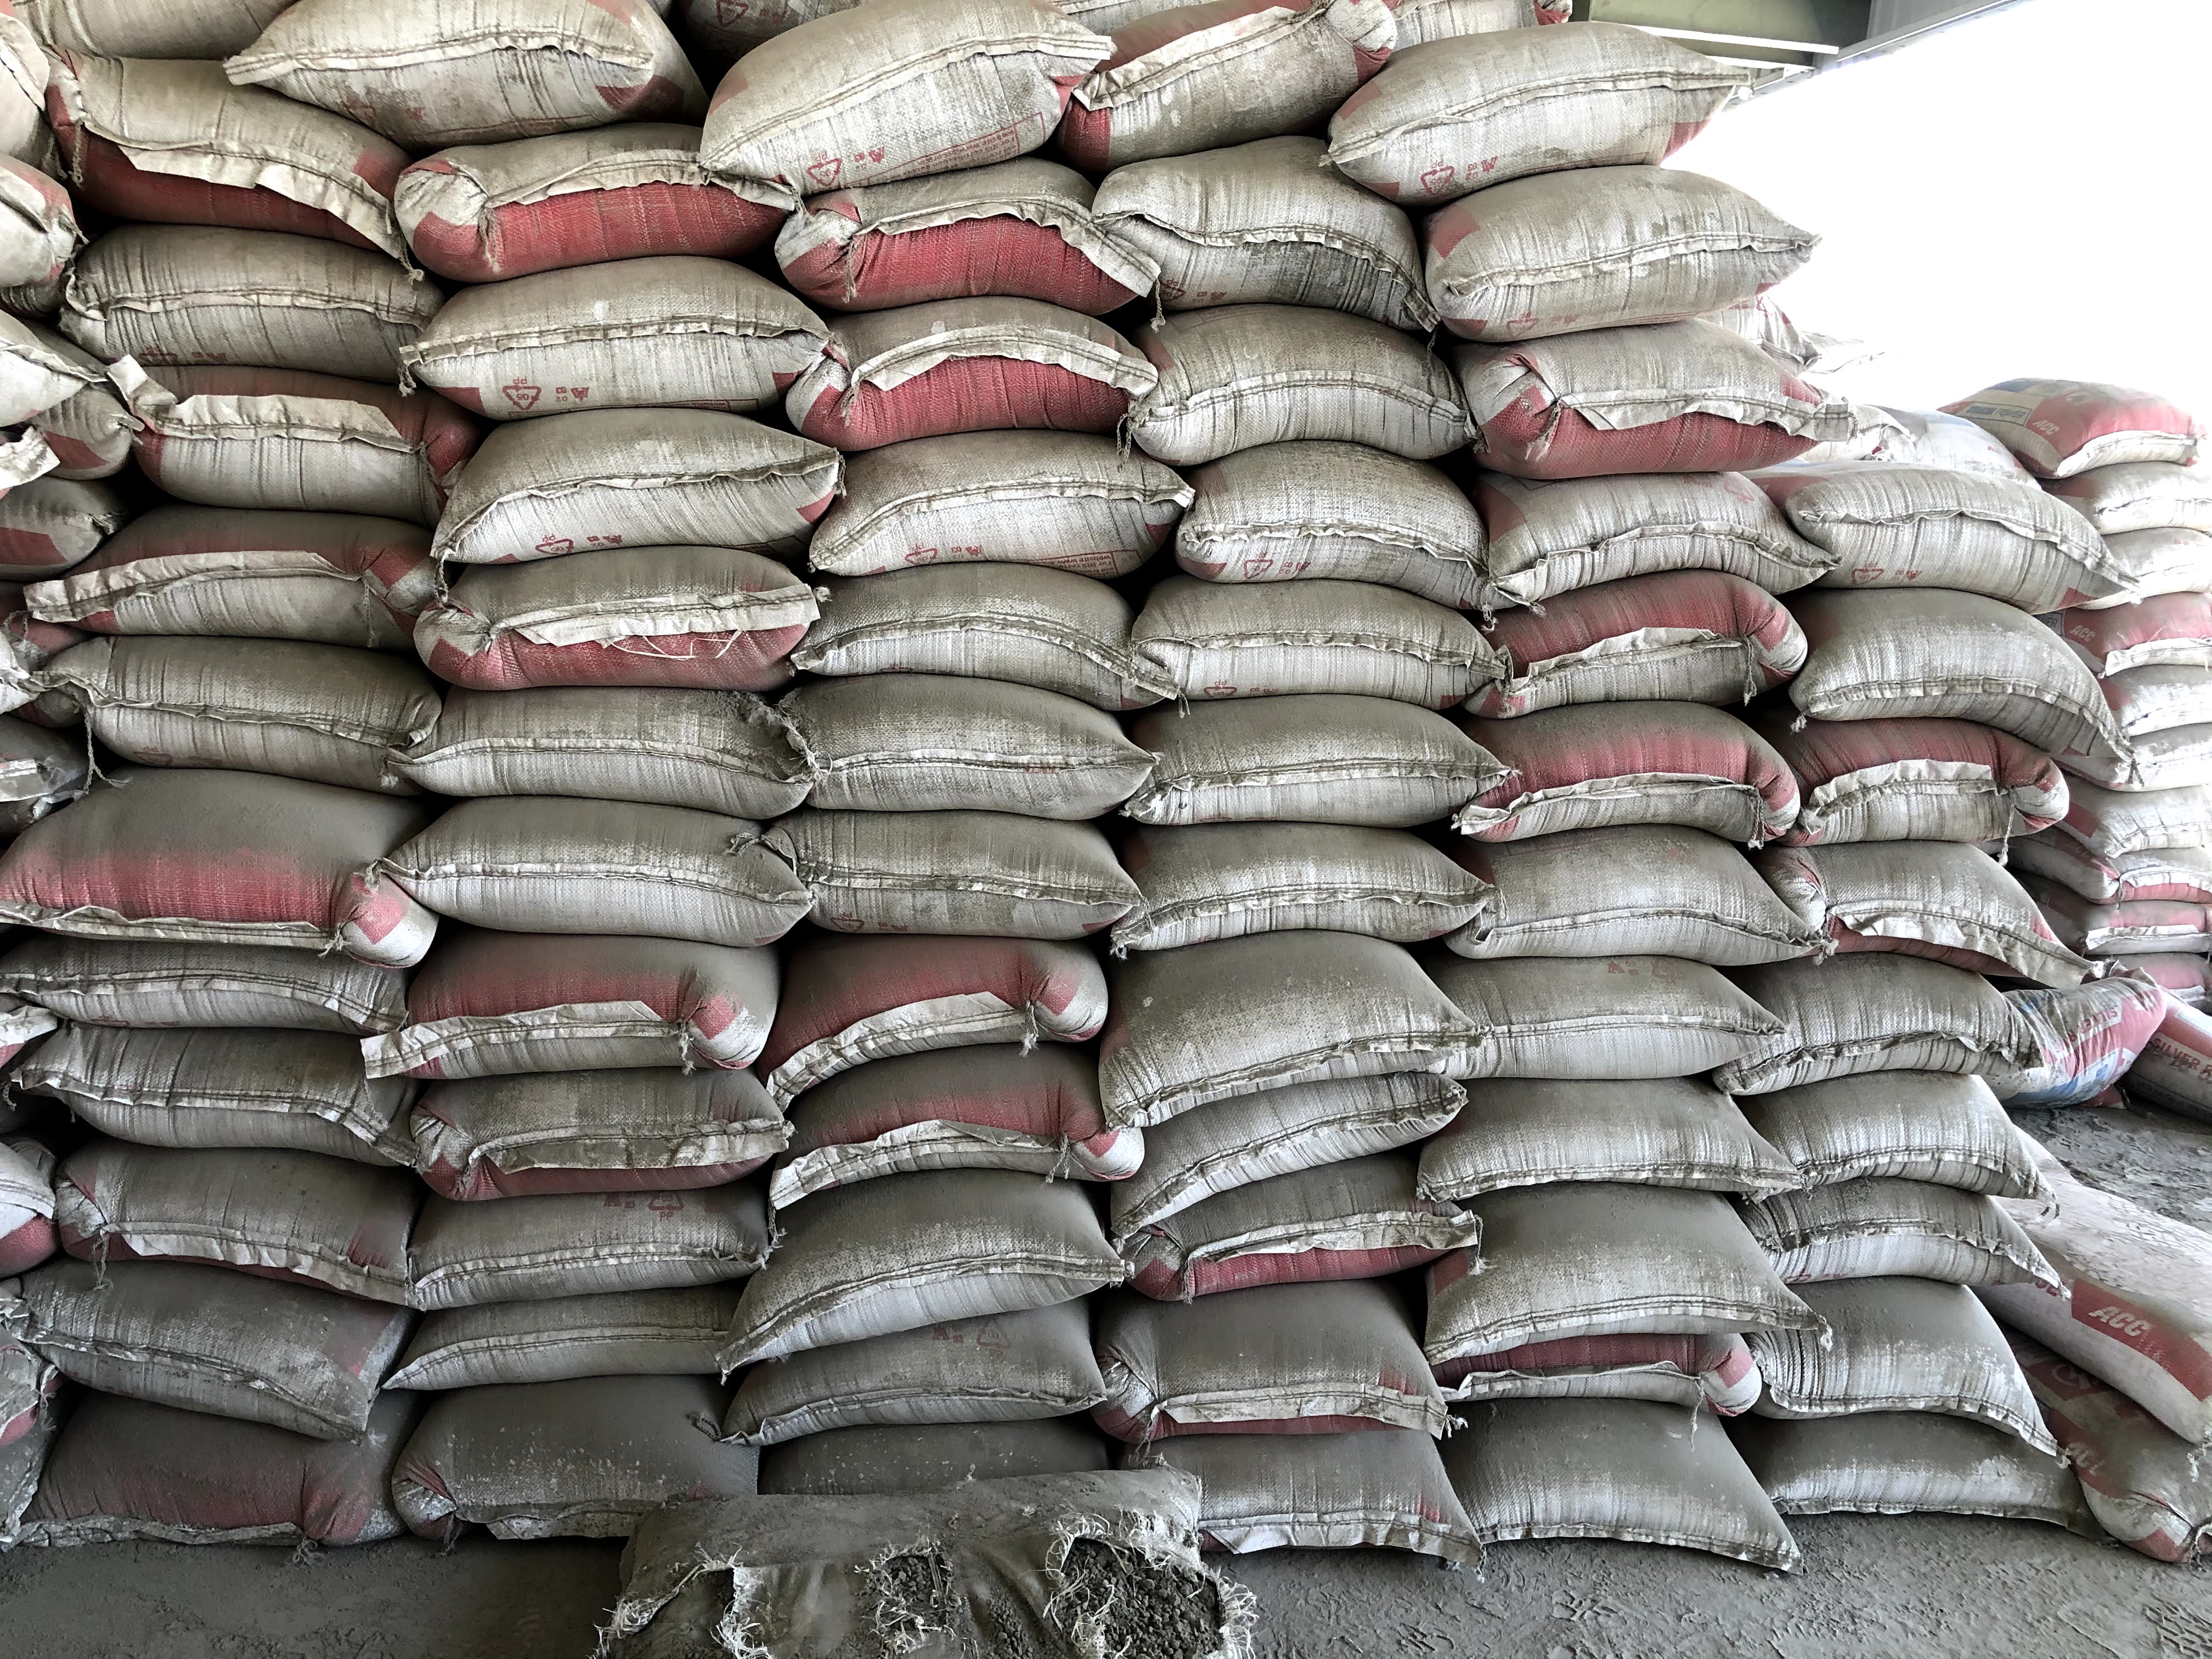cement bag: (56, 748, 416, 962), (70, 63, 408, 265), (446, 420, 812, 589), (1096, 272, 1456, 439), (1475, 174, 1806, 340), (1115, 927, 1447, 1091), (751, 1309, 1118, 1457), (1395, 44, 1806, 174), (82, 1262, 364, 1445), (423, 795, 752, 951), (451, 282, 812, 420), (751, 1056, 1104, 1195), (1134, 704, 1477, 847), (779, 910, 1104, 1056), (446, 589, 770, 732), (1824, 444, 2114, 603), (1461, 709, 1785, 850), (421, 951, 752, 1089), (56, 617, 404, 748), (813, 666, 1132, 805), (155, 364, 455, 512), (1475, 340, 1787, 477), (51, 1037, 416, 1154), (1096, 120, 1371, 272), (751, 1195, 1118, 1309), (1461, 1206, 1771, 1340), (1176, 439, 1456, 587), (421, 1089, 761, 1211), (784, 174, 1071, 317), (732, 54, 1071, 174), (399, 1410, 761, 1521), (1461, 850, 1749, 990), (1796, 603, 2114, 728), (1137, 1171, 1449, 1297), (812, 451, 1165, 561), (73, 502, 404, 617), (1449, 1091, 1771, 1206), (779, 805, 1132, 910), (813, 561, 1165, 666), (1486, 477, 1787, 598), (82, 1154, 416, 1262), (1153, 1398, 1430, 1527), (1771, 1415, 2059, 1539), (1176, 587, 1477, 704), (1763, 1072, 2048, 1190), (1486, 598, 1785, 709), (451, 164, 732, 282), (37, 1445, 364, 1546), (1796, 728, 2083, 842), (1771, 1297, 2045, 1415), (1449, 990, 1749, 1091), (1839, 927, 2048, 1072), (1763, 1190, 2045, 1297), (1137, 1297, 1430, 1398), (411, 1211, 761, 1290), (51, 962, 416, 1037), (84, 265, 408, 349), (841, 350, 1143, 439), (1491, 1420, 1724, 1534), (1134, 847, 1447, 927), (1118, 21, 1371, 120), (423, 732, 770, 795), (1461, 1340, 1724, 1420), (1839, 842, 2083, 927), (397, 1302, 709, 1366), (1132, 1124, 1449, 1171)
